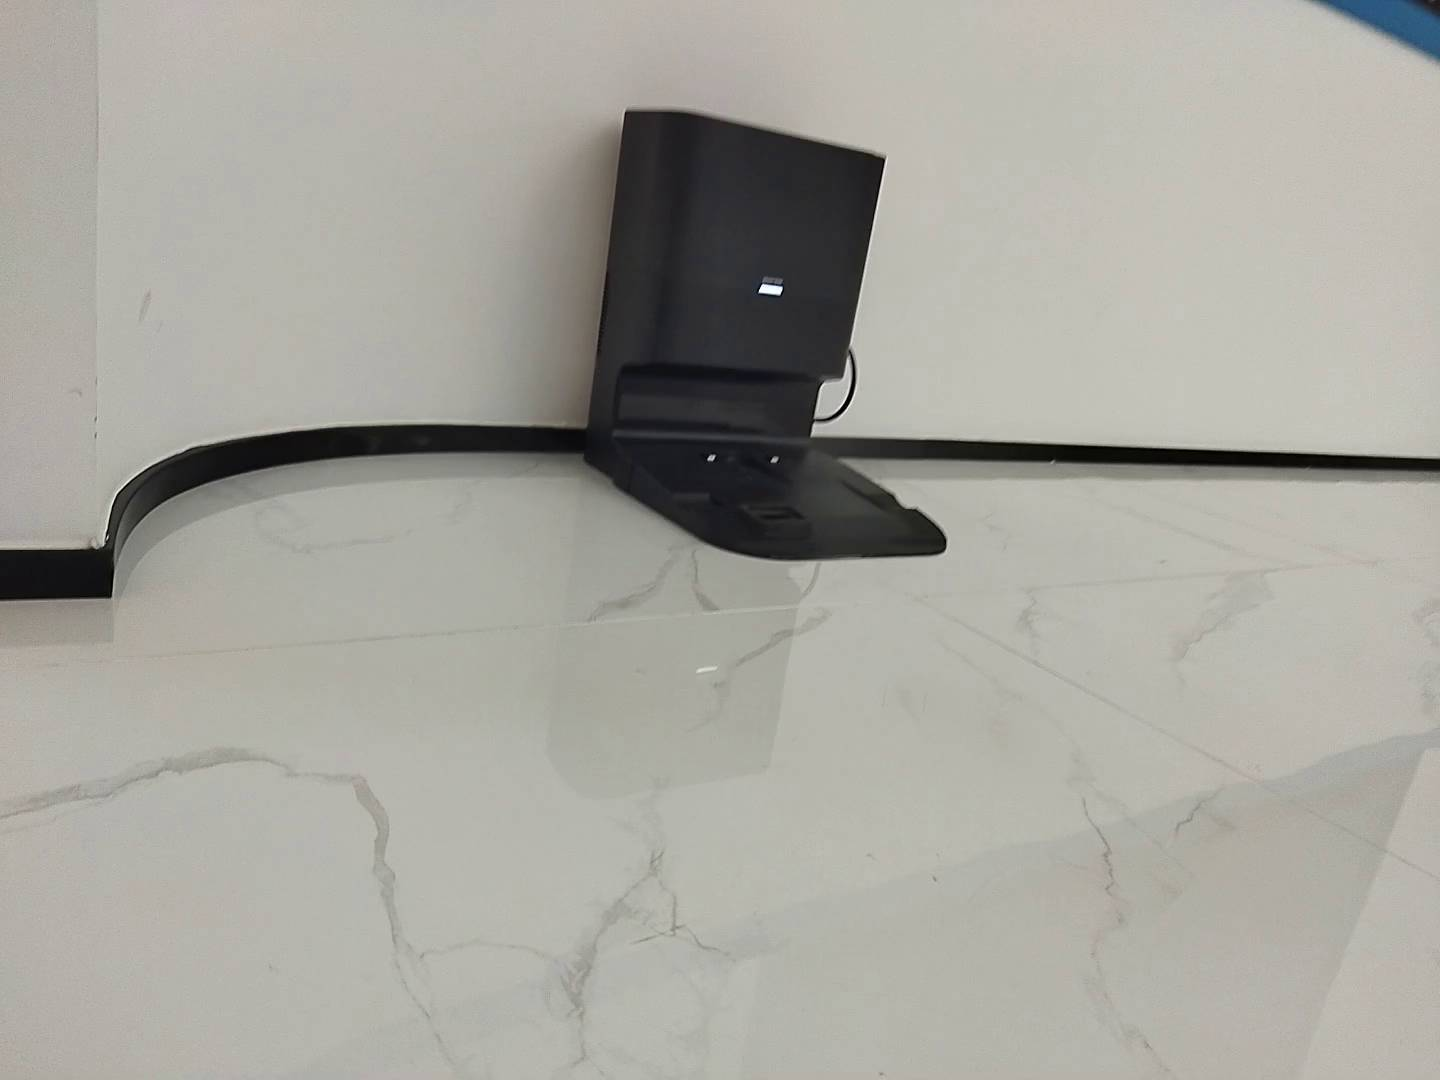dust collecting barrel: (584, 107, 948, 563)
